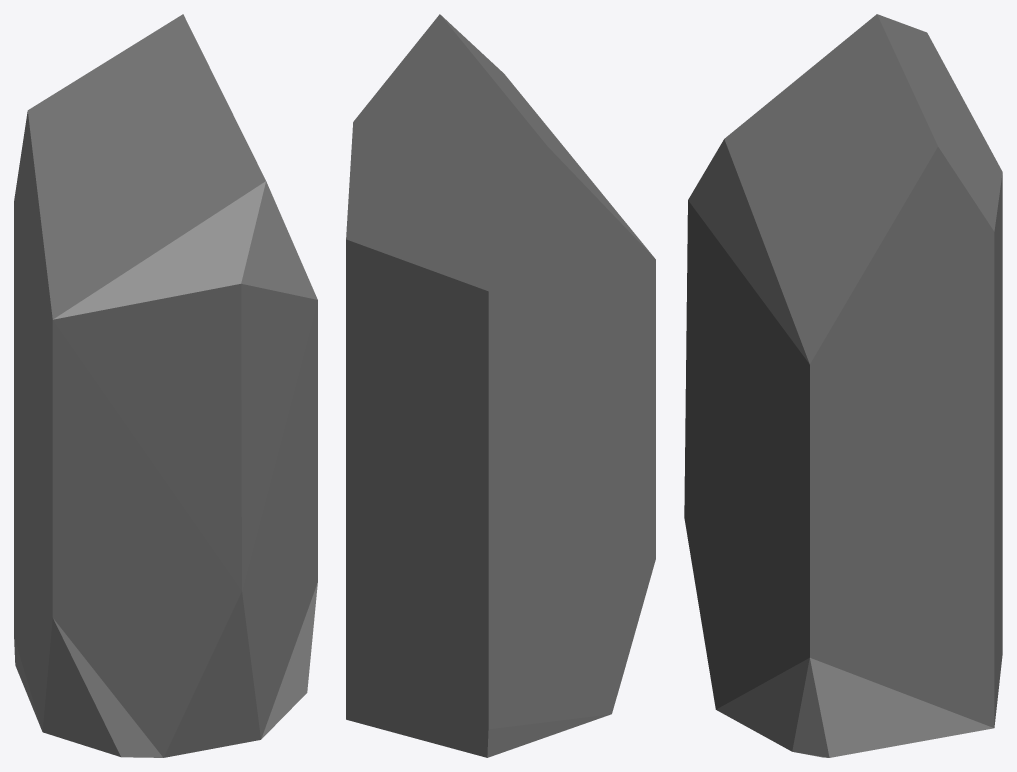
File: rock_16.fbx
3 renders of one model, left to right at view 1: azimuth 30°, elevation 25°; view 2: azimuth 150°, elevation 25°; view 3: azimuth 270°, elevation 25°, orthographic. The views are drawn at different scales.
Parts seen in each view (by area): view 1: rock_16; view 2: rock_16; view 3: rock_16.
Boxes of the visible parts, x1=… form: rock_16: x1=14, y1=14, x2=317, y2=757; rock_16: x1=346, y1=14, x2=655, y2=757; rock_16: x1=684, y1=14, x2=1002, y2=757.
Size of the model in its own units: 71.56 by 166 by 69.
